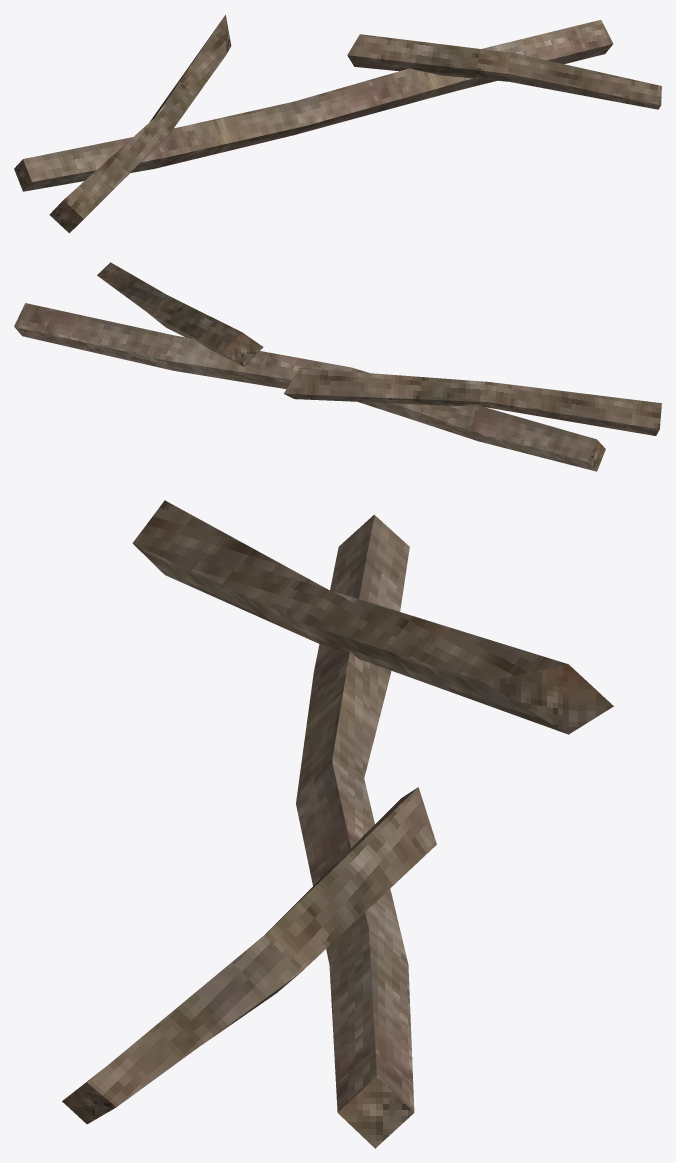
Rendered from wooden_fence_pile.glb.
3 views of the same model, one above another, from view 1: azimuth 30°, elevation 25°; view 2: azimuth 150°, elevation 25°; view 3: azimuth 270°, elevation 25° (orthographic). The views are drawn at different scales.
Visible parts, largest first — view 1: wooden_fence_pile; view 2: wooden_fence_pile; view 3: wooden_fence_pile.
Boxes of the visible parts, x1,y1,x2,y2 form: wooden_fence_pile: [14, 15, 661, 233]; wooden_fence_pile: [14, 262, 661, 471]; wooden_fence_pile: [62, 500, 613, 1148].
Bounding box in the file's own units: 2.06 × 0.2763 × 0.8314.
Materials: 1 (1 with a texture image).
